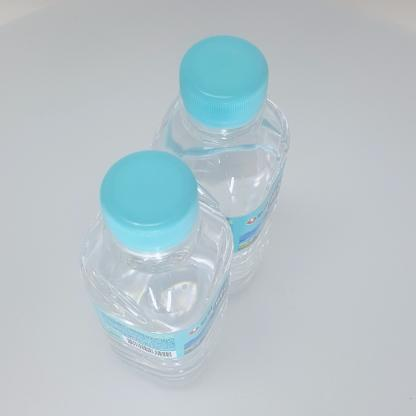-----330ML: (148, 35, 290, 295), (79, 150, 233, 386)
